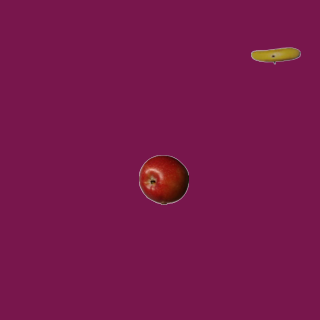Apple Braeburn: (138, 154, 188, 204)
Banana: (250, 30, 300, 80)
